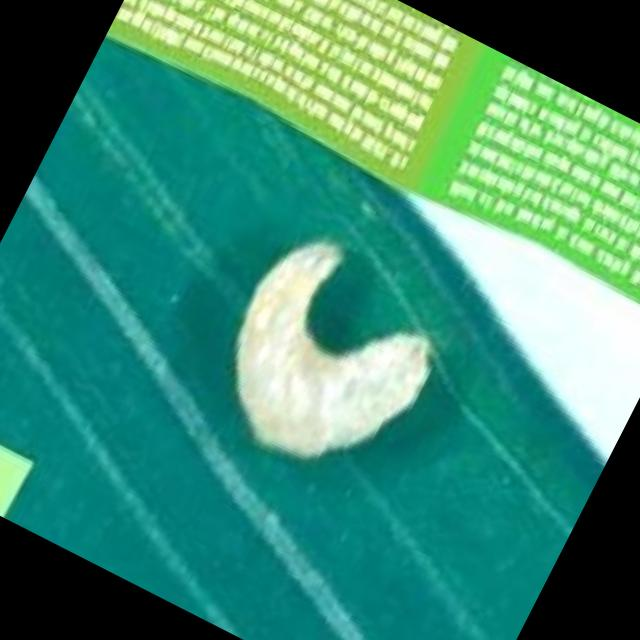whorl-maggot: (179, 211, 472, 509)
